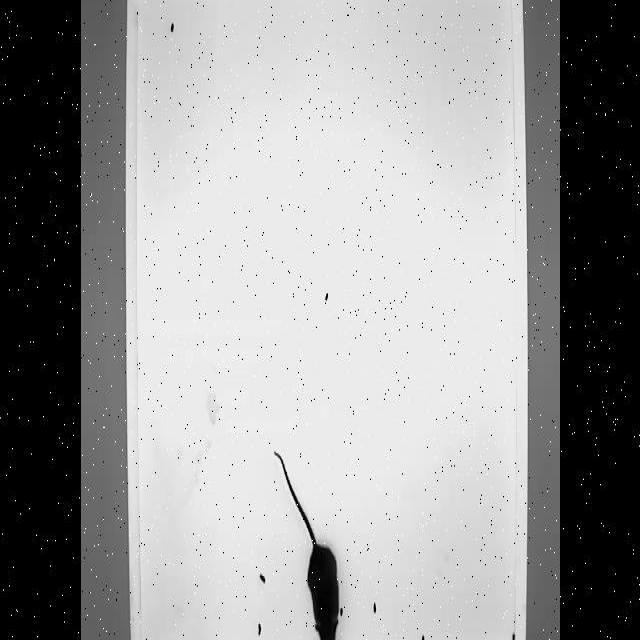rat: (269, 446, 345, 640)
